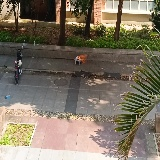fire: (78, 53, 87, 63)
